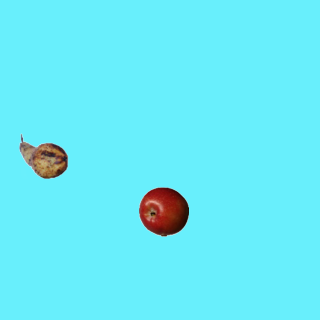Apple Braeburn: (138, 186, 188, 236)
Pear Abate: (18, 131, 68, 181)
